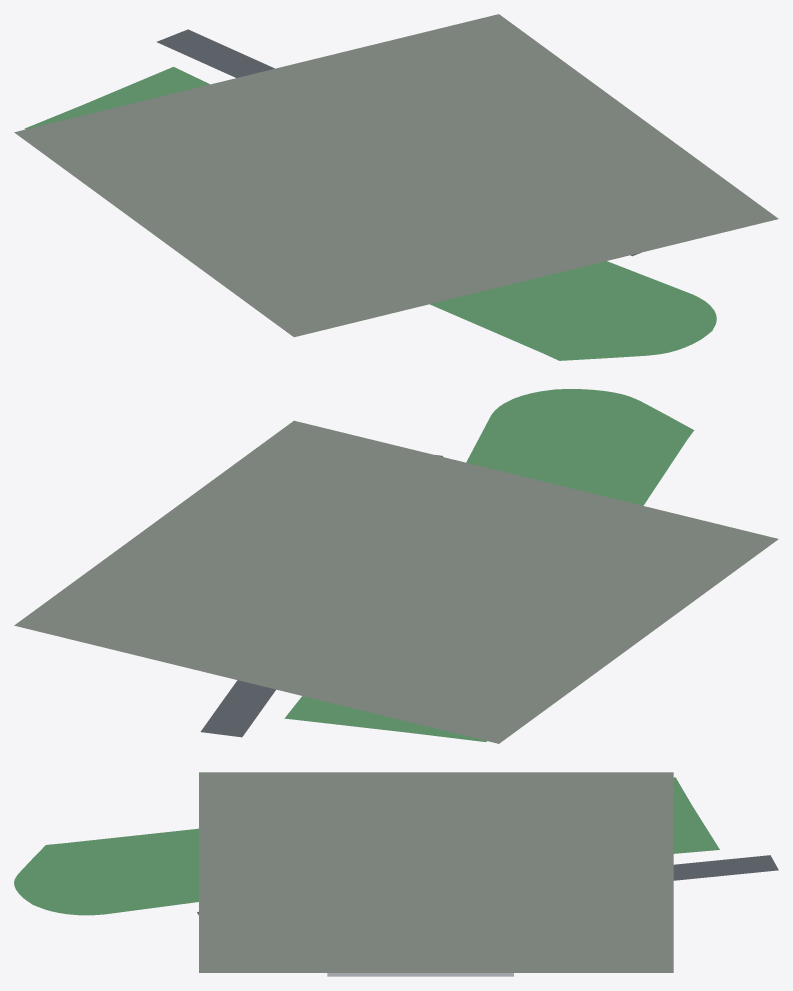
3 renders of one model, top to bottom at view 1: azimuth 30°, elevation 25°; view 2: azimuth 150°, elevation 25°; view 3: azimuth 270°, elevation 25°, orthographic. The views are drawn at different scales.
Bounding box in the file's own units: 128 × 10.82 × 206.
